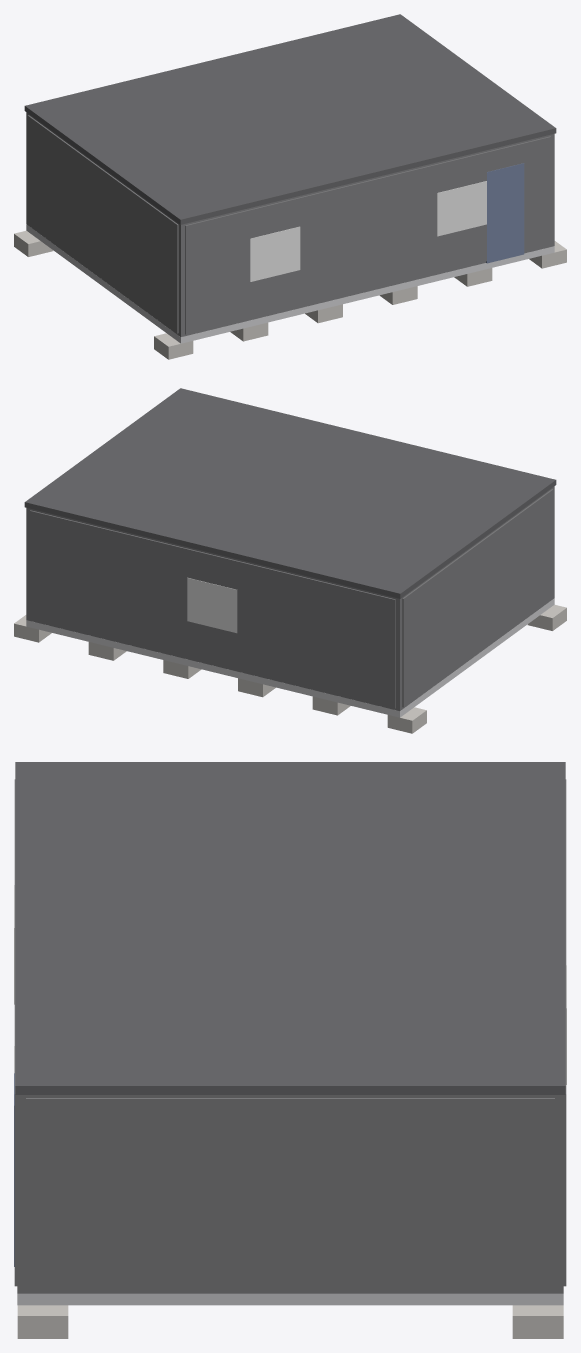
Rendered from Studio-30-Base-CharcoalSilver-LOD2.glb.
The picture shows the model from 3 angles, top to bottom: view 1: azimuth 30°, elevation 25°; view 2: azimuth 150°, elevation 25°; view 3: azimuth 270°, elevation 25°; orthographic projection. The views are drawn at different scales.
Parts seen in each view (by area): view 1: RoofMain, ExteriorPanelsStandard, WindowsStandard, BaseFrame, FoundationBlocks, ExteriorShell, EntryDoor; view 2: RoofMain, ExteriorPanelsStandard, BaseFrame, ExteriorShell, FoundationBlocks, WindowsStandard; view 3: RoofMain, ExteriorPanelsStandard, BaseFrame, ExteriorShell, FoundationBlocks.
Boxes of the visible parts, left/top/right/bottom form: RoofMain: left=24, top=14, right=556, bottom=224; ExteriorPanelsStandard: left=27, top=115, right=550, bottom=334; WindowsStandard: left=250, top=181, right=486, bottom=281; BaseFrame: left=26, top=224, right=554, bottom=343; FoundationBlocks: left=14, top=230, right=566, bottom=359; ExteriorShell: left=26, top=112, right=554, bottom=336; EntryDoor: left=486, top=163, right=524, bottom=263; RoofMain: left=24, top=388, right=556, bottom=598; ExteriorPanelsStandard: left=30, top=489, right=553, bottom=708; BaseFrame: left=26, top=598, right=554, bottom=717; ExteriorShell: left=26, top=486, right=554, bottom=710; FoundationBlocks: left=14, top=604, right=566, bottom=733; WindowsStandard: left=187, top=577, right=237, bottom=633; RoofMain: left=15, top=762, right=565, bottom=1094; ExteriorPanelsStandard: left=14, top=779, right=566, bottom=1290; BaseFrame: left=17, top=1293, right=563, bottom=1305; ExteriorShell: left=17, top=1095, right=563, bottom=1293; FoundationBlocks: left=17, top=1305, right=563, bottom=1338.
Size of the model in its own units: 9.6 by 3.17 by 6.53.
